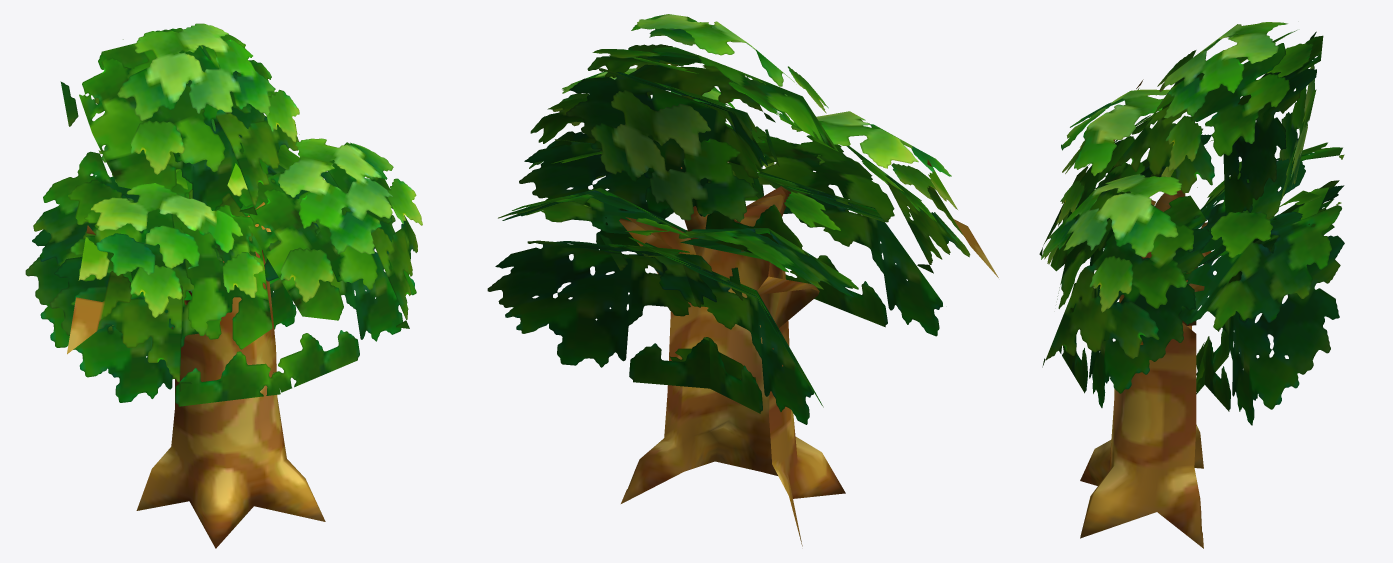
The model's file is fg_treeA_4.dae.
3 renders of one model, left to right at view 1: azimuth 30°, elevation 25°; view 2: azimuth 150°, elevation 25°; view 3: azimuth 270°, elevation 25°, orthographic. The views are drawn at different scales.
Visible parts, largest first — view 1: vsn_mesh_0_; view 2: vsn_mesh_0_; view 3: vsn_mesh_0_.
Boxes of the visible parts, box(x1,y1,x2,y2) form: vsn_mesh_0_: box(25, 23, 422, 548); vsn_mesh_0_: box(487, 14, 998, 546); vsn_mesh_0_: box(1039, 22, 1344, 548).
Size of the model in its own units: 78.71 by 86.57 by 57.44.
